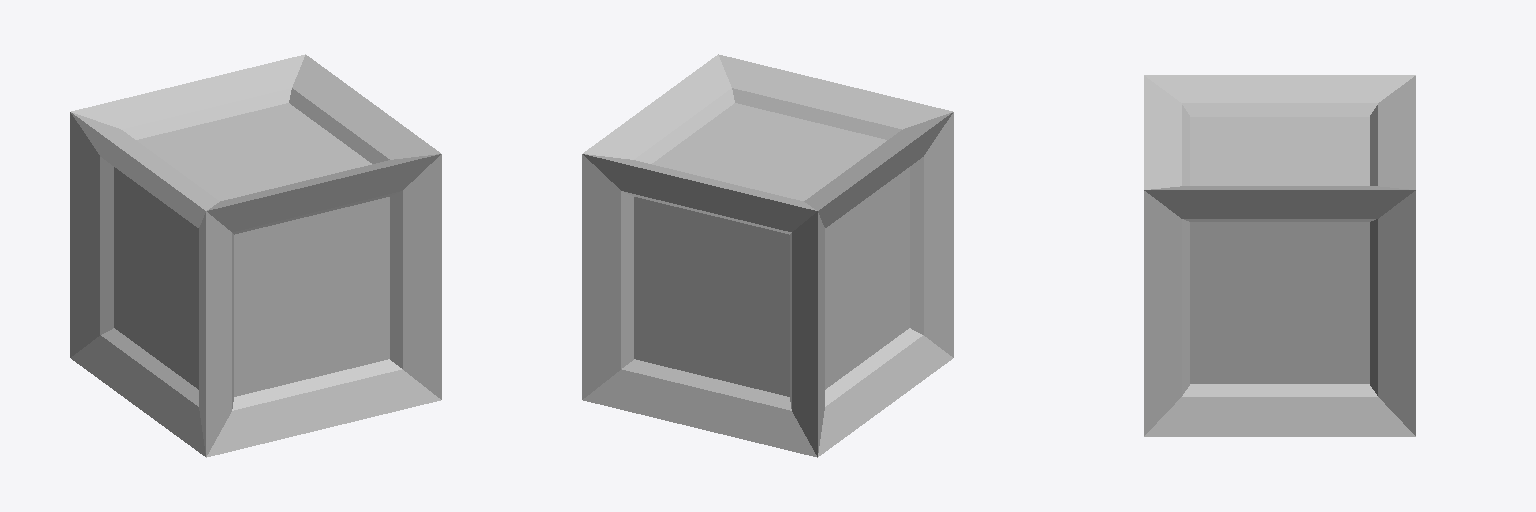
The model's file is SkillCube.obj.
3 views of the same model, side by side, from view 1: azimuth 30°, elevation 25°; view 2: azimuth 150°, elevation 25°; view 3: azimuth 270°, elevation 25° (orthographic).
Parts seen in each view (by area): view 1: Cube_Cube.001; view 2: Cube_Cube.001; view 3: Cube_Cube.001.
Boxes of the visible parts, x1=… form: Cube_Cube.001: x1=70, y1=54, x2=441, y2=457; Cube_Cube.001: x1=582, y1=54, x2=953, y2=457; Cube_Cube.001: x1=1144, y1=75, x2=1415, y2=436.
Bounding box in the file's own units: 5.53 × 5.53 × 5.53.